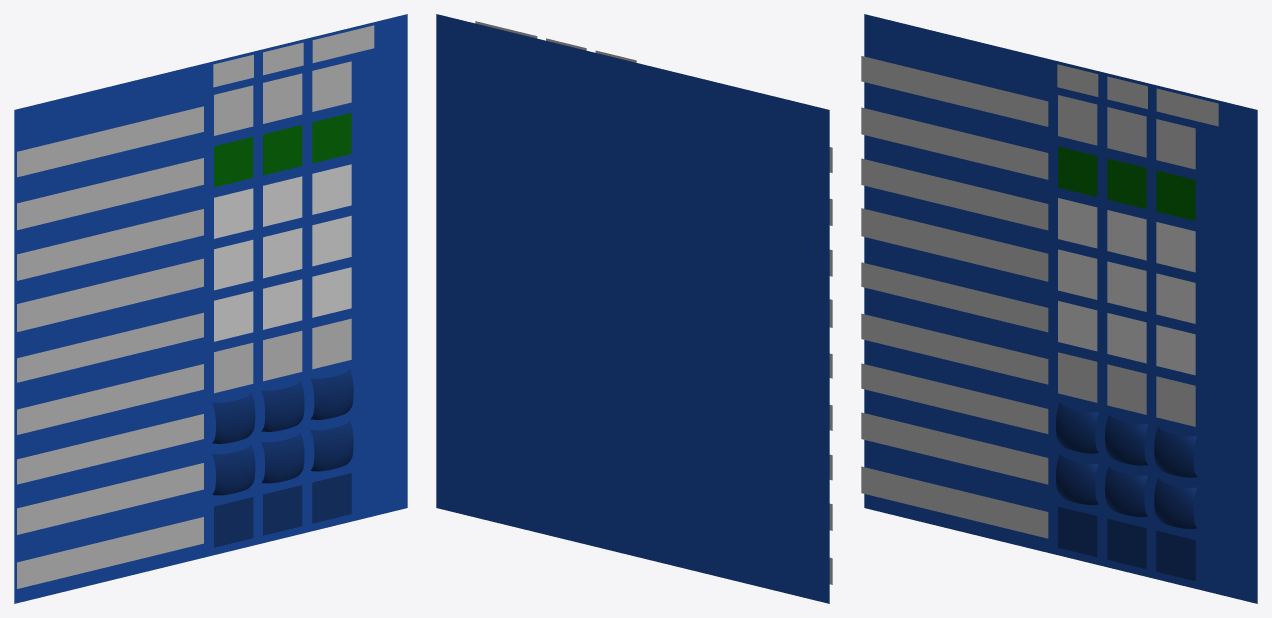
File: TextureTransformMultiTest.gltf
The picture shows the model from 3 angles, left to right: view 1: azimuth 30°, elevation 25°; view 2: azimuth 150°, elevation 25°; view 3: azimuth 330°, elevation 25°; orthographic projection.
Parts seen in each view (by area): view 1: Background, Labels, ClearcoatUV0, OcclusionSample, BaseColorUV0, UnlitSample, ClearcoatUV1, ClearcoatSample, ClearcoatRoughSample, ClearcoatNormalUV0, BaseColorUV1, BaseColorSample (+17 smaller); view 2: Background, Labels; view 3: Background, Labels, ClearcoatUV1, ClearcoatUV0, BaseColorUV0, EmissionUV1, NormalUV1, NormalSample, MetalRoughSample, ClearcoatNormalUV1, BaseColorUV1, BaseColorSample (+17 smaller).
Part boxes in pixels (x1,y1,x2,y2): Background: (14, 14, 407, 603); Labels: (17, 25, 374, 588); ClearcoatUV0: (212, 393, 255, 443); OcclusionSample: (312, 267, 351, 317); BaseColorUV0: (214, 85, 253, 135); UnlitSample: (312, 318, 351, 369); ClearcoatUV1: (261, 381, 304, 431); ClearcoatSample: (310, 369, 353, 419); ClearcoatRoughSample: (310, 420, 353, 471); ClearcoatNormalUV0: (214, 497, 253, 547); BaseColorUV1: (263, 73, 302, 123); BaseColorSample: (312, 61, 351, 111); Background: (436, 14, 829, 603); Labels: (475, 21, 832, 584); Background: (864, 14, 1257, 603); Labels: (861, 56, 1218, 538); ClearcoatUV1: (1105, 415, 1147, 465); ClearcoatUV0: (1056, 403, 1098, 453); BaseColorUV0: (1058, 95, 1097, 145); EmissionUV1: (1107, 158, 1146, 208); NormalUV1: (1107, 210, 1146, 260); NormalSample: (1156, 222, 1195, 272); MetalRoughSample: (1156, 273, 1195, 323); ClearcoatNormalUV1: (1107, 518, 1146, 569); BaseColorUV1: (1107, 107, 1146, 157); BaseColorSample: (1156, 119, 1195, 169).
Bounding box in the file's own units: 2 × 2.4 × 0.0601.
